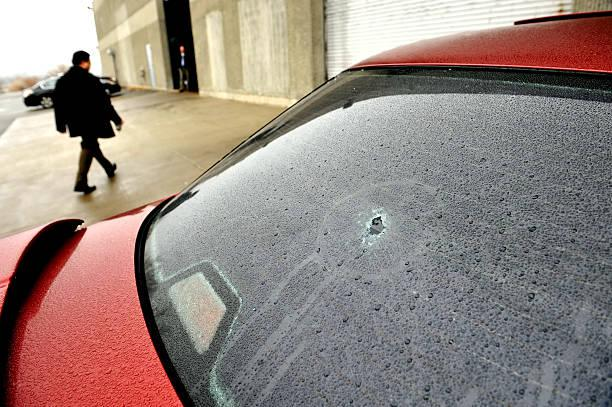Rear-windscreen-Damage: (95, 53, 610, 406)
